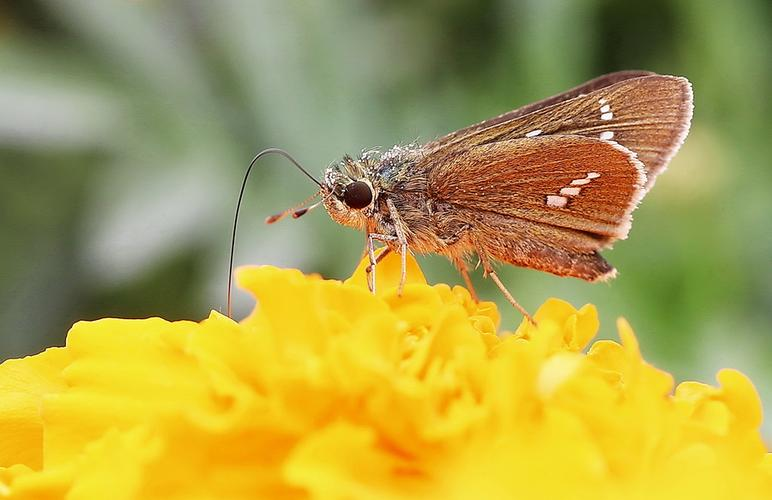Hesperiidae: (224, 63, 697, 335)
